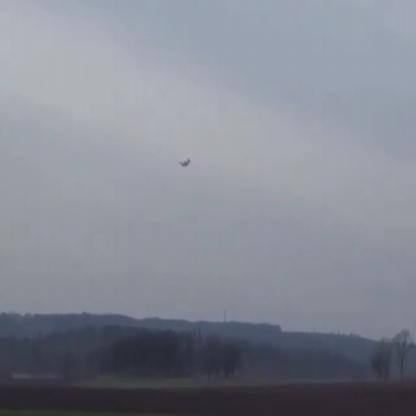CIV_Plane: (176, 154, 194, 170)
